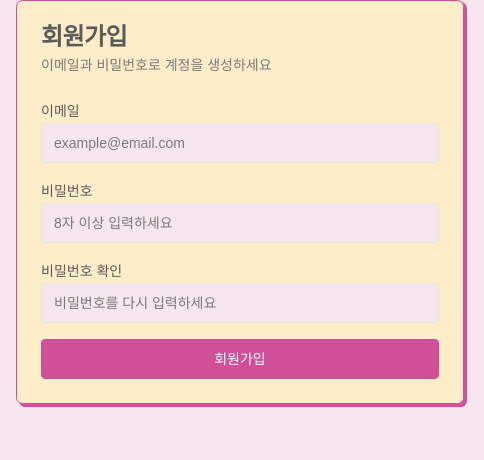
Test: SignupForm › 비밀번호가 일치하지 않을 때 에러 메시지를 표시한다
Type "test@example.com" into the field labelled "이메일" at (240, 143), box [41, 123, 439, 163]
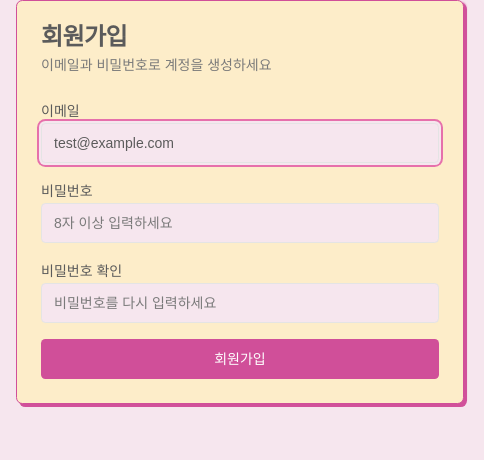
Type "password123" into the password field labelled "비밀번호" at (240, 223), box [41, 203, 439, 243]
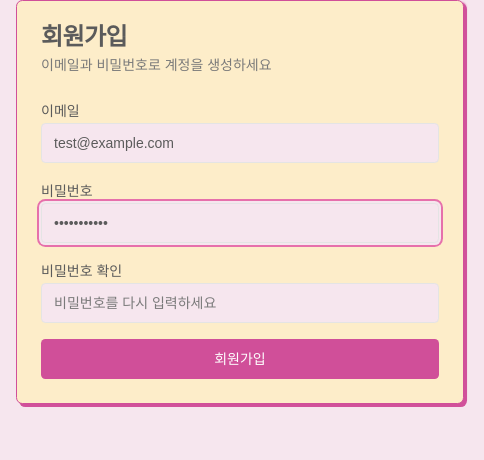
Type "different123" into the password field labelled "비밀번호 확인" at (240, 303), box [41, 283, 439, 323]
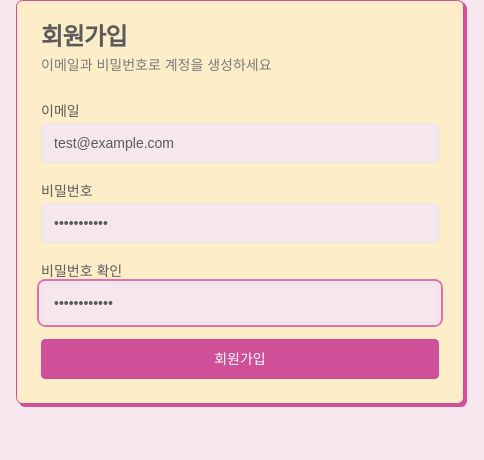
Click the button "회원가입" at (240, 359), box [41, 339, 439, 379]
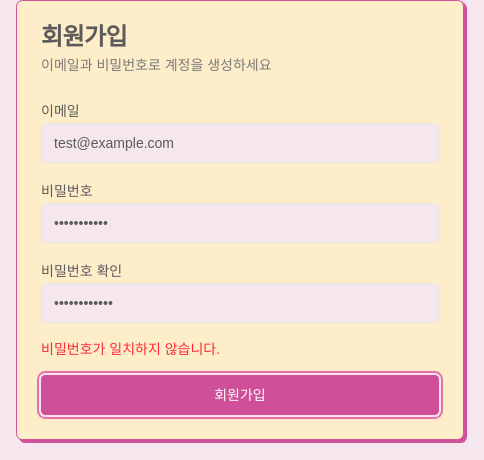
Expected: the text "비밀번호가 일치하지 않습니다." is shown, [41, 341, 220, 357]
